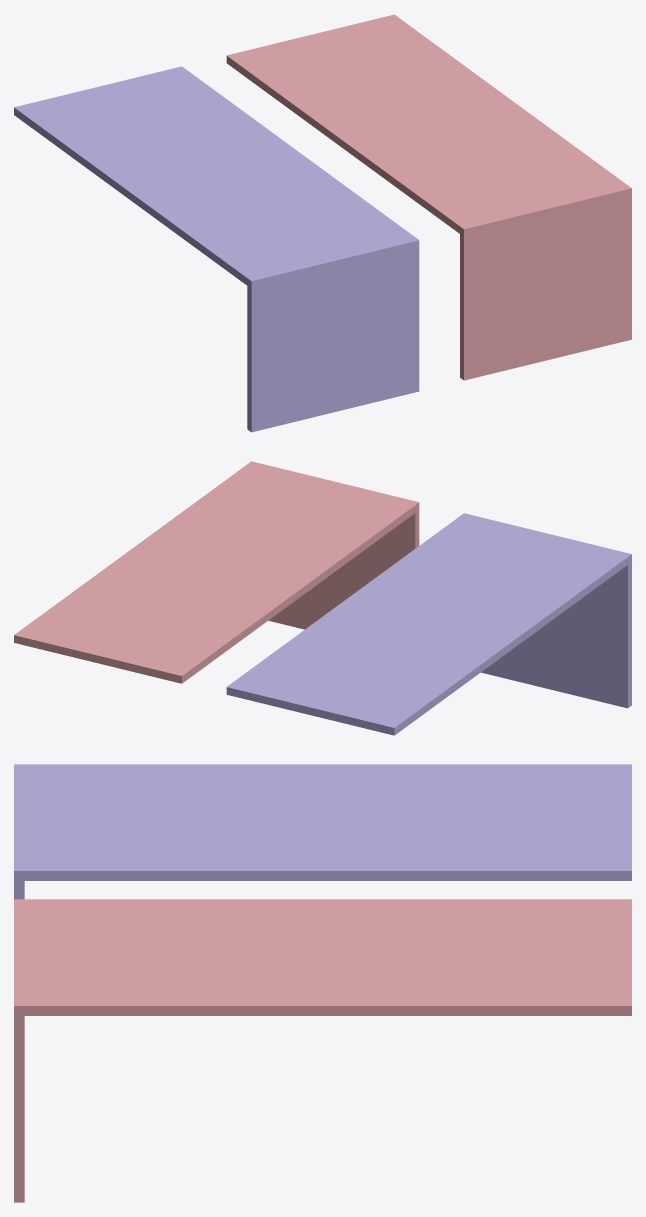
File: towel2.fbx
3 views of the same model, one above another, from view 1: azimuth 30°, elevation 25°; view 2: azimuth 150°, elevation 25°; view 3: azimuth 270°, elevation 25° (orthographic). The views are drawn at different scales.
Parts seen in each view (by area): view 1: towel2; view 2: towel2; view 3: towel2.
Boxes of the visible parts, bbox=[...] form: towel2: bbox=[14, 14, 631, 432]; towel2: bbox=[14, 461, 631, 735]; towel2: bbox=[14, 764, 631, 1202].
Size of the model in its own units: 94.22 by 35.8 by 102.
